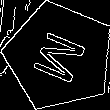M_SE: (26, 26, 92, 88)
